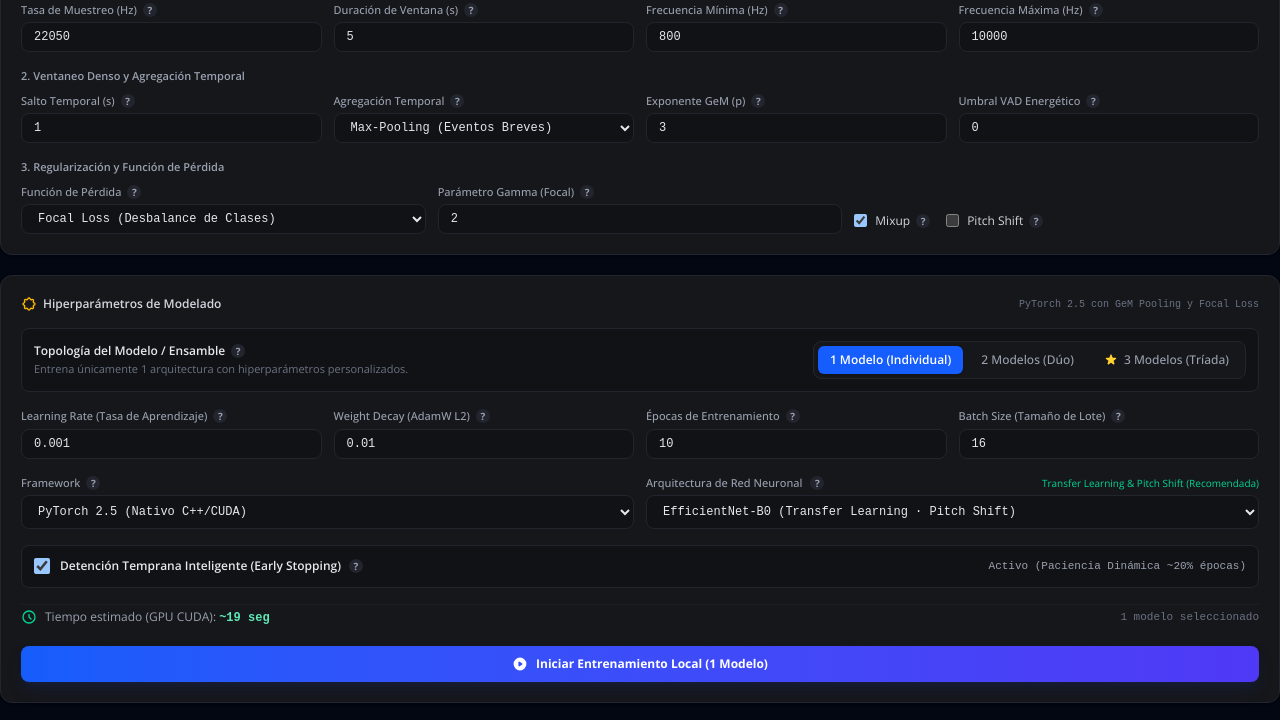
Scenario: TrainingView (Dynamic Ensemble Selector) › switches to Duo Ensemble and reveals 2 models with sliders
(page scrolled)
Click the button "2 Modelos (Dúo)".
click(1028, 360)  # box [969,346,1086,374]
(page scrolled)
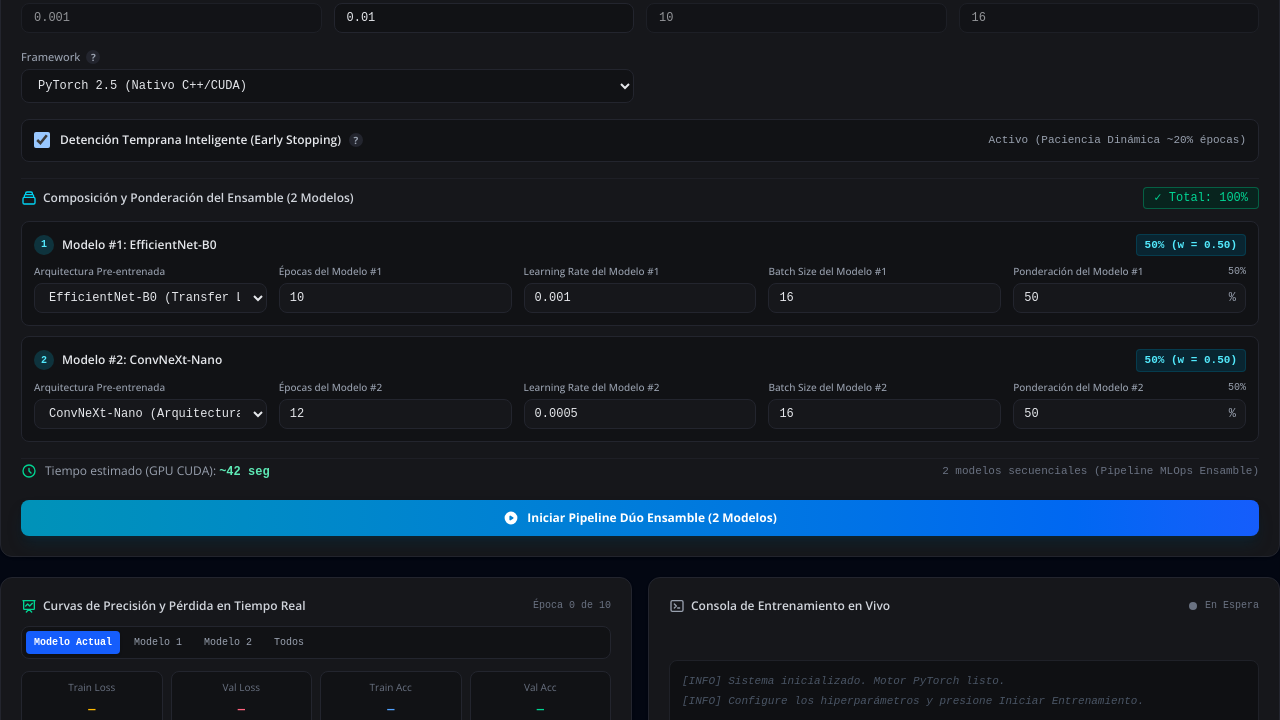
Check: the text "Composición y Ponderación del Ensamble (2 Modelos)" is shown, box [21,190,354,206]
Check: the text "Modelo #1: EfficientNet-B0" is shown, box [62,237,217,253]
Check: the text "Modelo #2: ConvNeXt-Nano" is shown, box [62,352,222,368]
